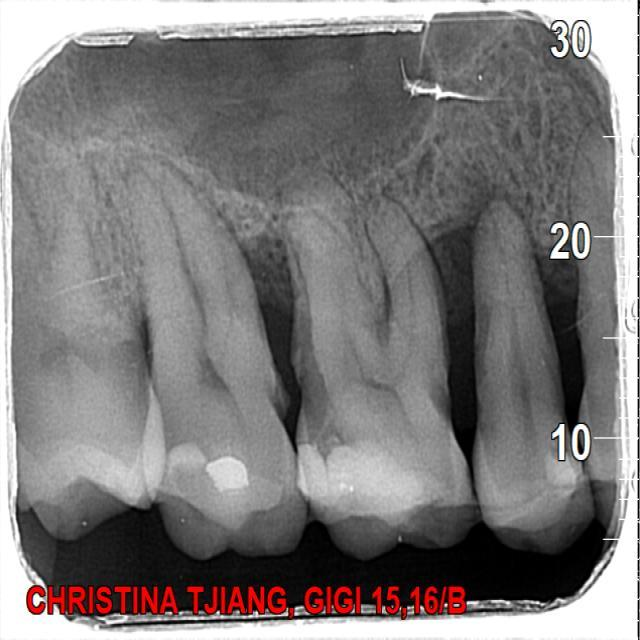individual-tooth-8tto: (272, 199, 482, 562), (130, 157, 305, 562), (469, 204, 602, 553)
